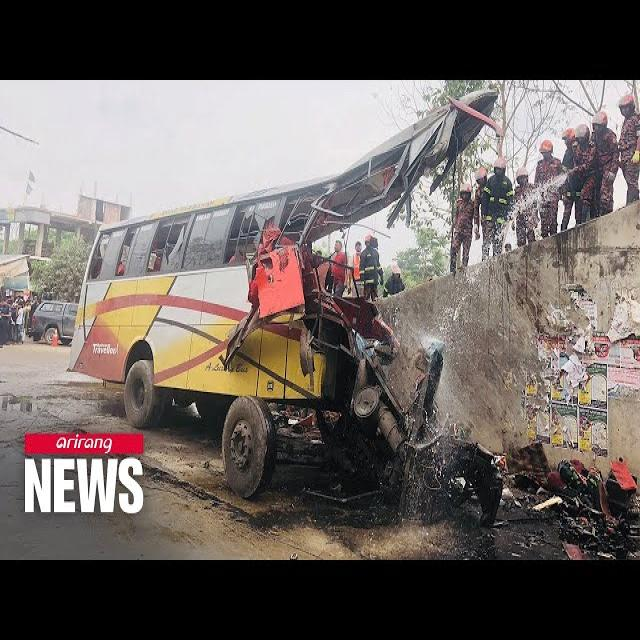Accident: (56, 82, 556, 550)
